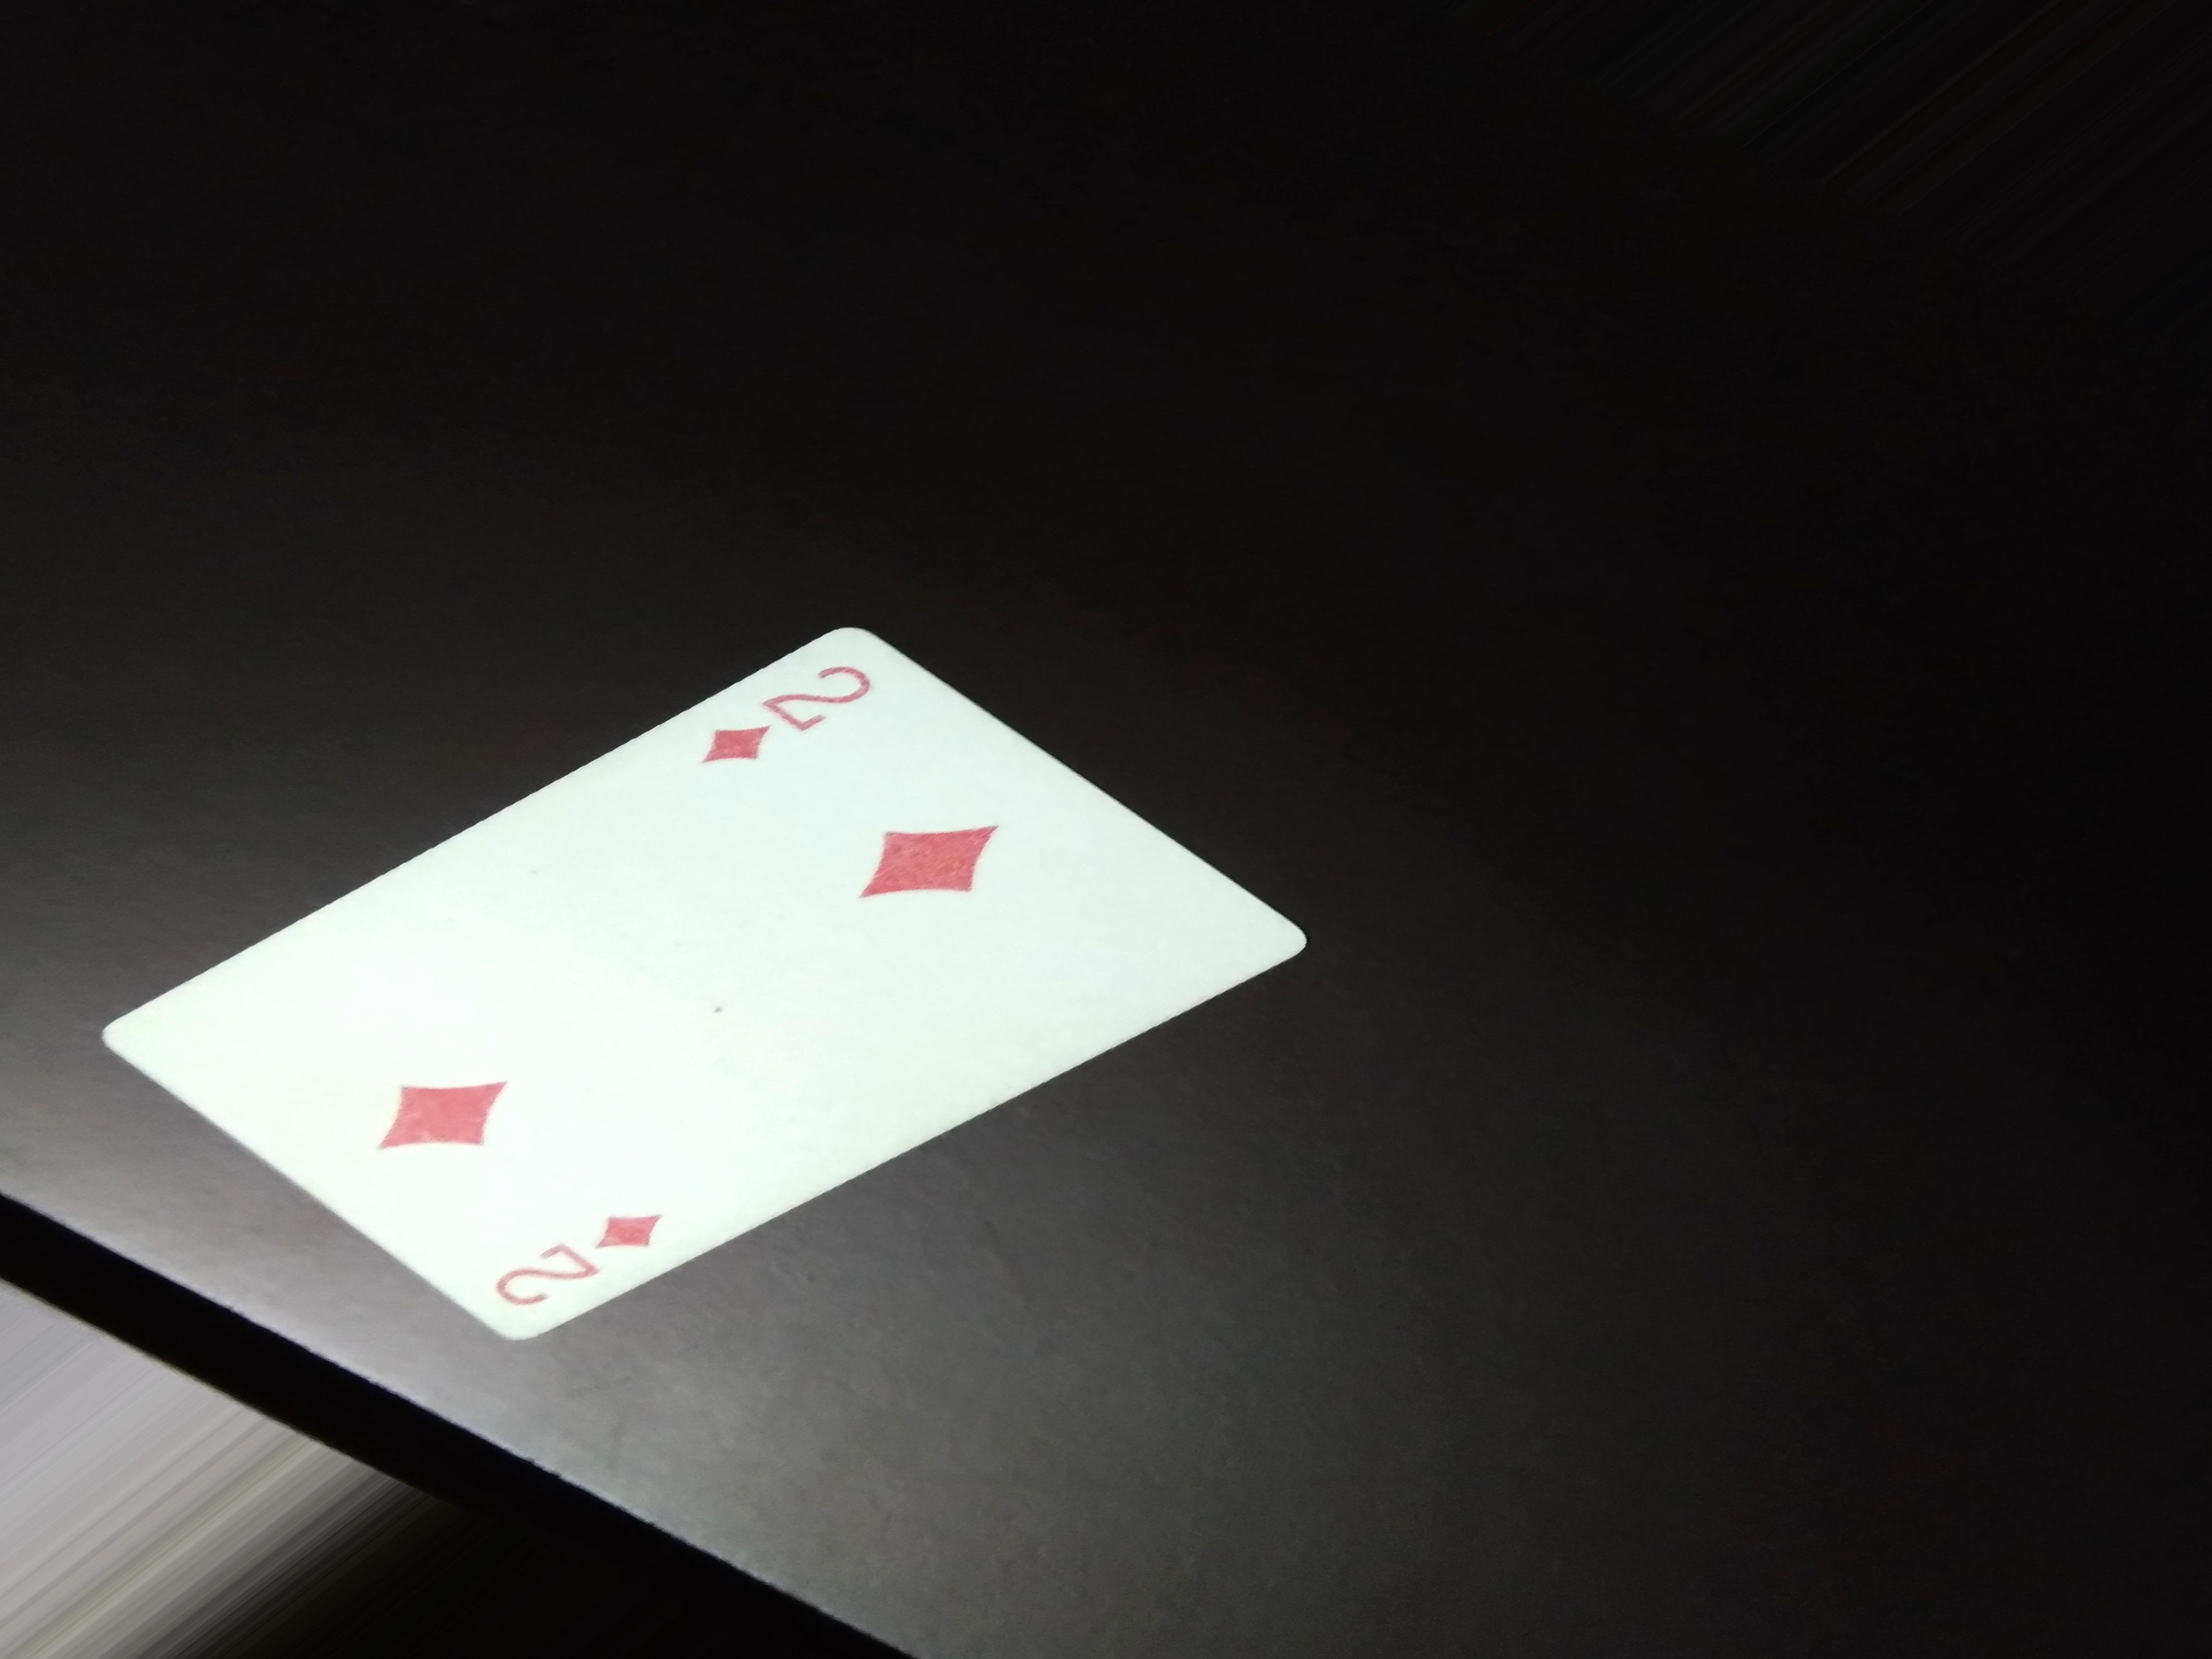2D: (714, 652, 888, 814)
